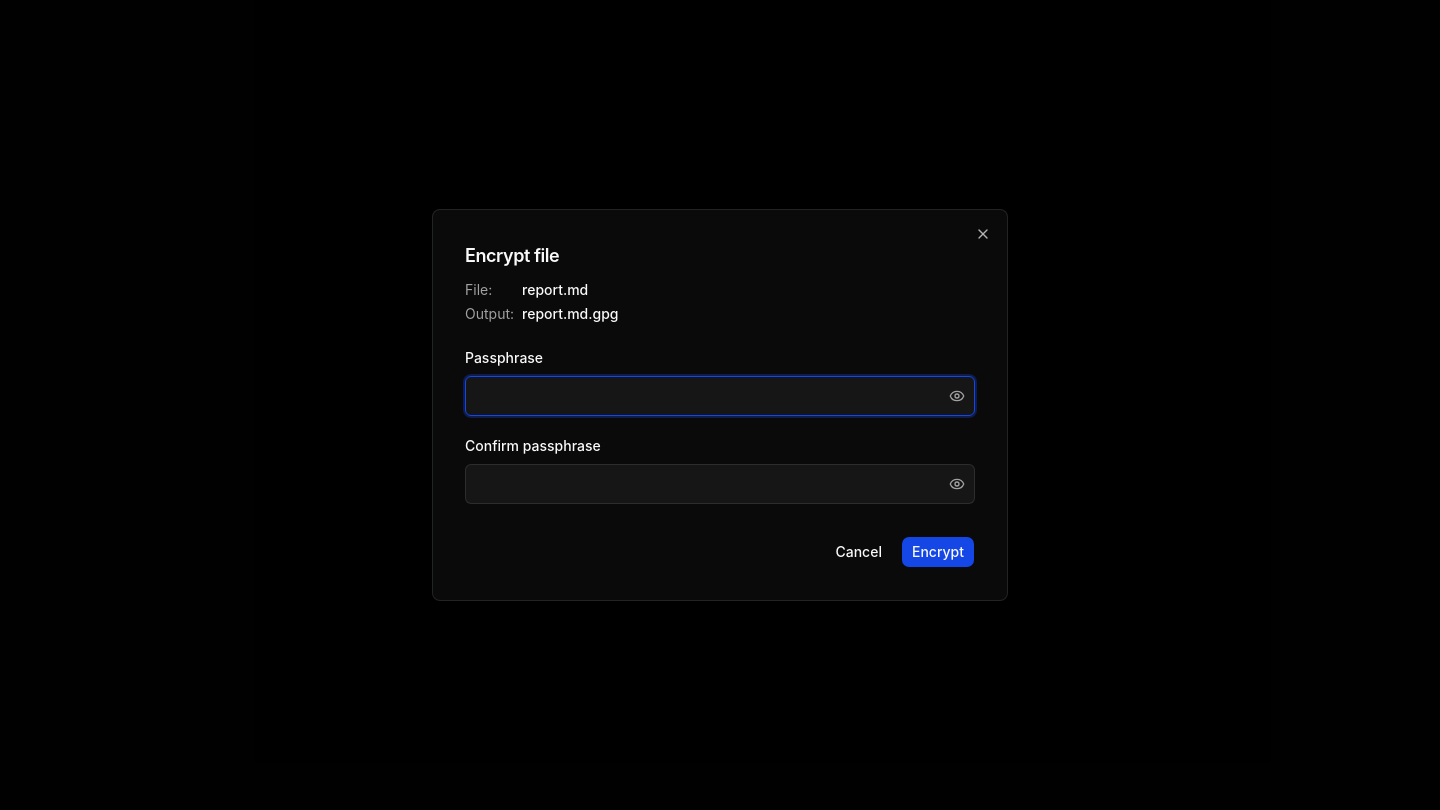
Test: EncryptDialog › shows "do not match" error when passphrase fields differ
Type "password123" into the password field labelled "Passphrase".
click(720, 396); type("password123")  # box [465,376,975,416]
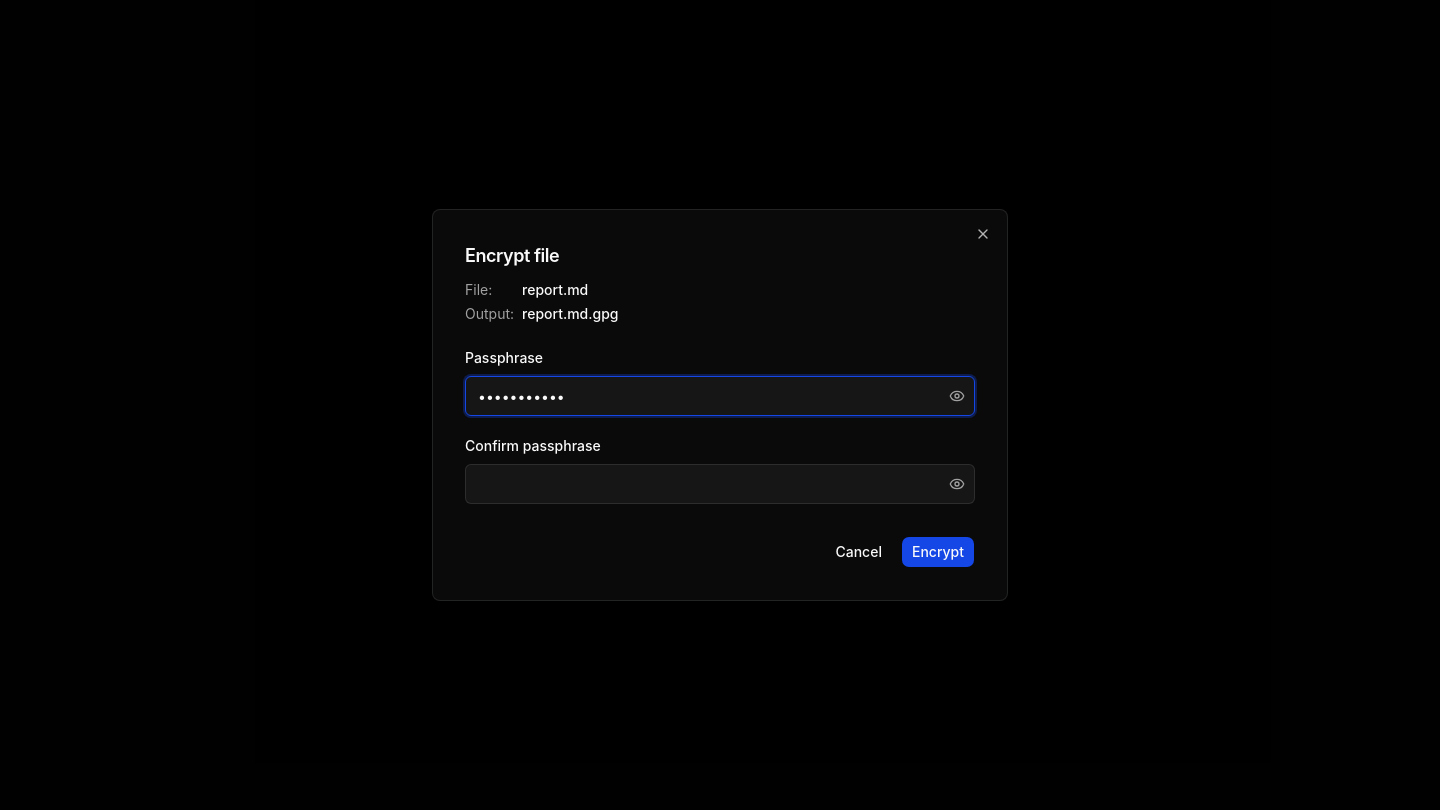
Type "differentpass" into the password field labelled "Confirm passphrase".
click(720, 484); type("differentpass")  # box [465,464,975,504]
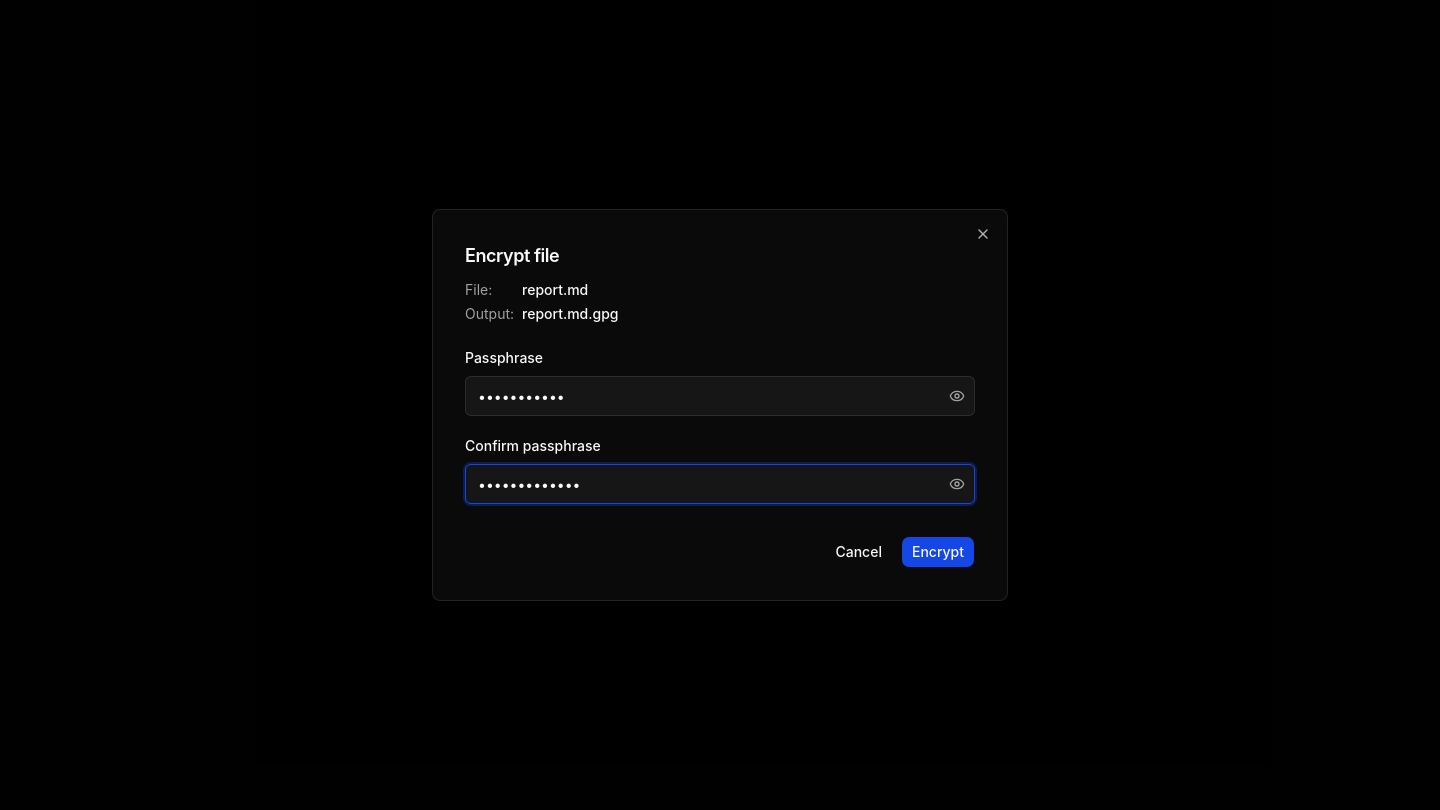
Click the button "Encrypt".
click(938, 552)  # box [901,536,975,568]
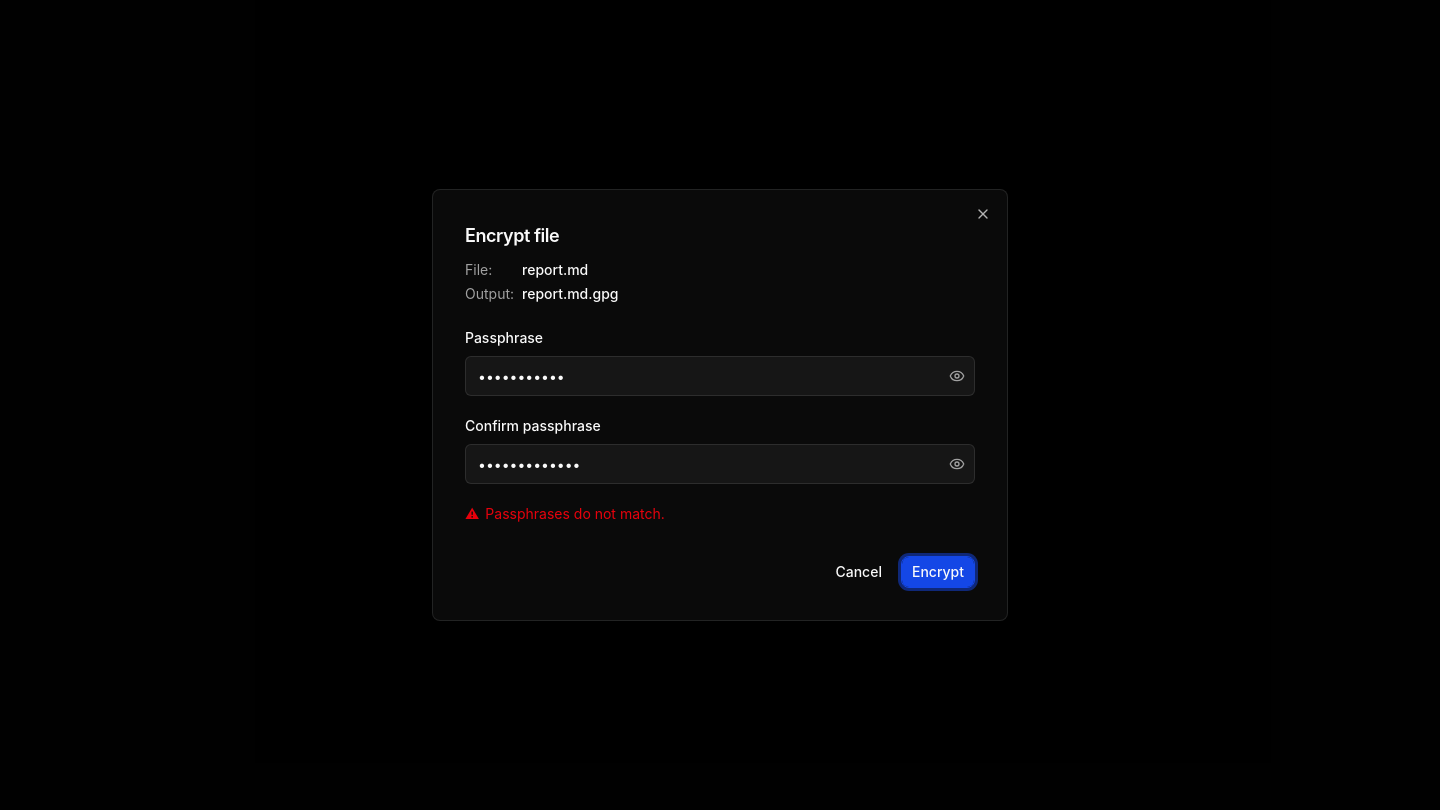
Expected: the message shows "Passphrases do not match.", [485,505,665,522]
